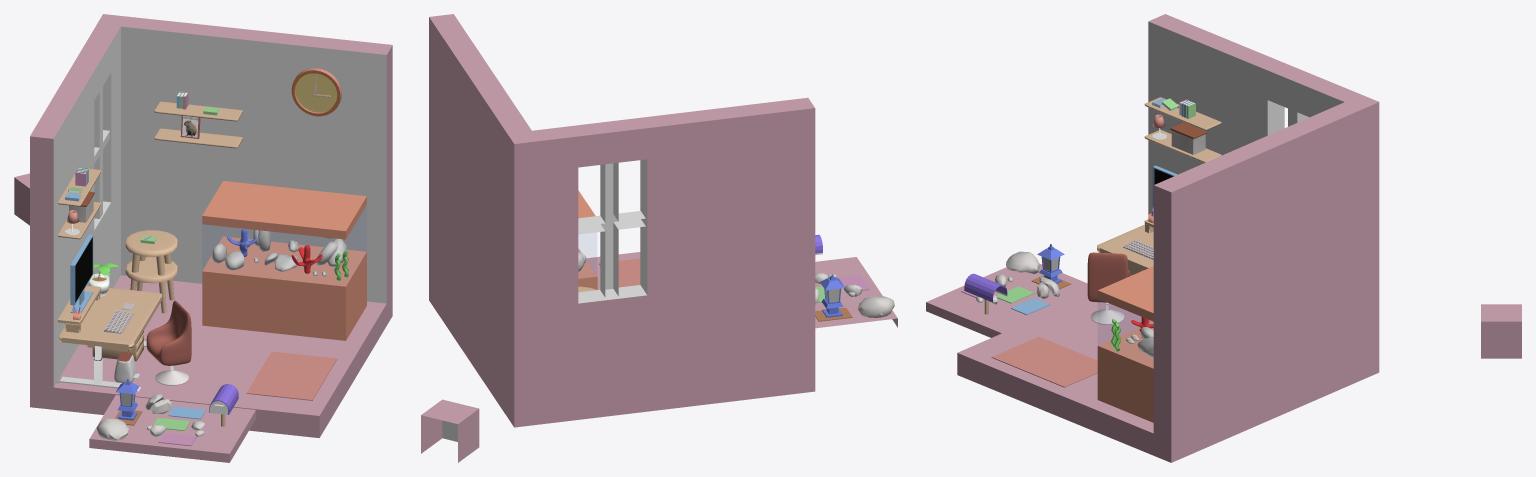
The model's file is roomv2.glb.
The picture shows the model from 3 angles, left to right: view 1: azimuth 30°, elevation 25°; view 2: azimuth 150°, elevation 25°; view 3: azimuth 270°, elevation 25°; orthographic projection. The views are drawn at different scales.
Parts seen in each view (by area): view 1: body, aquarium, desks, mini floor, shelves, floor items, chair, table stuff, clock, computer, lamp, Cube (+3 smaller); view 2: body, Cube, mini floor, aquarium, lamp, rock4, floor items; view 3: body, aquarium, mini floor, floor items, shelves, Cube, chair, desks, mailbox, lamp, rock4.
Boxes of the visible parts, x1=… form: body: x1=30, y1=14, x2=392, y2=438; aquarium: x1=202, y1=181, x2=366, y2=340; desks: x1=56, y1=230, x2=177, y2=391; mini floor: x1=89, y1=395, x2=255, y2=462; shelves: x1=58, y1=91, x2=242, y2=239; floor items: x1=92, y1=331, x2=337, y2=400; chair: x1=146, y1=300, x2=191, y2=365; table stuff: x1=58, y1=235, x2=156, y2=333; clock: x1=291, y1=68, x2=341, y2=116; computer: x1=70, y1=234, x2=93, y2=312; lamp: x1=115, y1=378, x2=142, y2=425; Cube: x1=14, y1=173, x2=29, y2=225; body: x1=429, y1=14, x2=815, y2=427; Cube: x1=421, y1=399, x2=479, y2=462; mini floor: x1=815, y1=257, x2=897, y2=328; aquarium: x1=578, y1=190, x2=597, y2=289; lamp: x1=815, y1=274, x2=852, y2=321; rock4: x1=858, y1=296, x2=894, y2=317; floor items: x1=599, y1=258, x2=640, y2=287; body: x1=957, y1=14, x2=1379, y2=462; aquarium: x1=1097, y1=266, x2=1153, y2=422; mini floor: x1=926, y1=263, x2=1087, y2=337; floor items: x1=991, y1=274, x2=1132, y2=387; shelves: x1=1144, y1=97, x2=1221, y2=162; Cube: x1=1481, y1=304, x2=1521, y2=358; chair: x1=1087, y1=252, x2=1130, y2=302; desks: x1=1097, y1=224, x2=1153, y2=274; mailbox: x1=964, y1=273, x2=1007, y2=314; lamp: x1=1031, y1=244, x2=1070, y2=289; rock4: x1=1006, y1=251, x2=1039, y2=273.
Bounding box in the file's own units: 42.66 × 29.38 × 58.65.
Materials: 31 (1 with a texture image).
